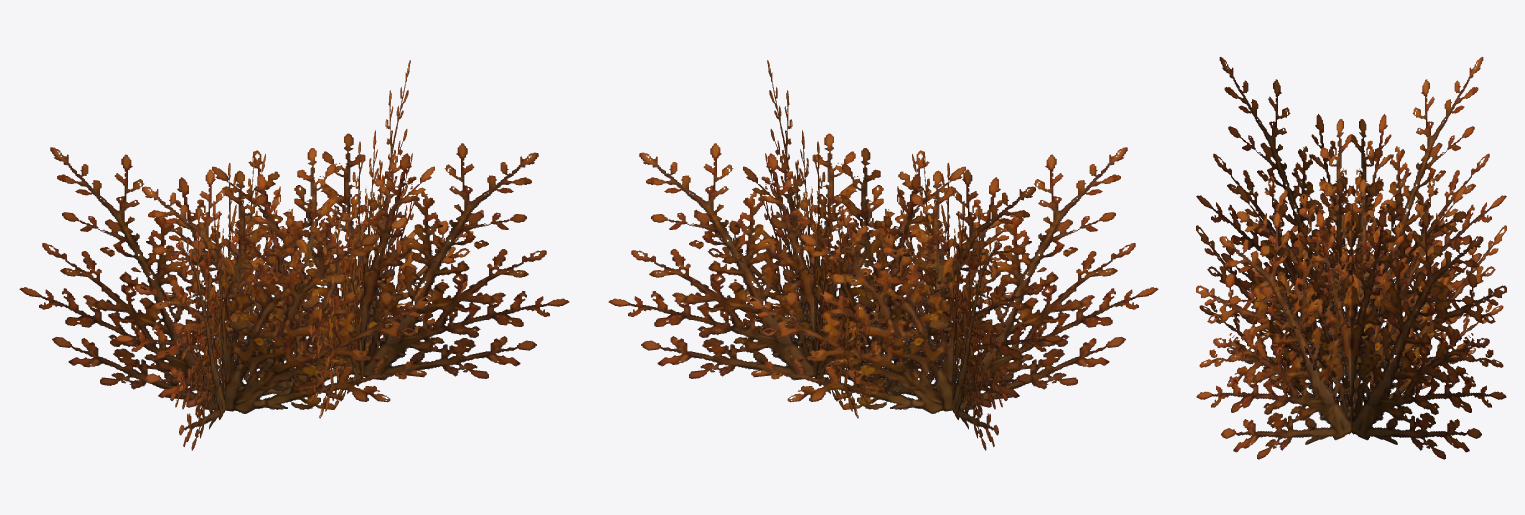
3 views of the same model, side by side, from view 1: azimuth 30°, elevation 25°; view 2: azimuth 150°, elevation 25°; view 3: azimuth 270°, elevation 25° (orthographic). The views are drawn at different scales.
Visible parts, largest first — view 1: Plane; view 2: Plane; view 3: Plane.
Boxes of the visible parts, x1,y1,x2,y2 form: Plane: (19, 60, 569, 450); Plane: (608, 60, 1158, 450); Plane: (1196, 57, 1506, 459).
Size of the model in its own units: 214 by 139 by 141.
Materials: 5 (5 with a texture image).
